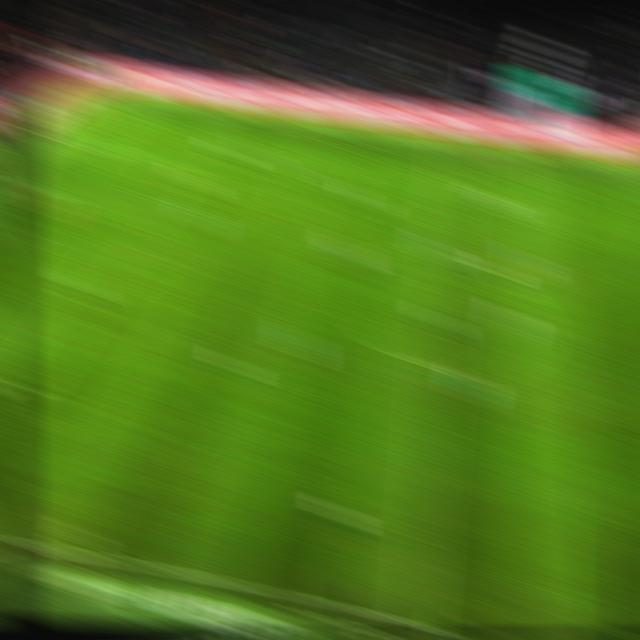bigarea_bottom_inner: (7, 376, 42, 396)
bigarea_top_inner: (160, 152, 194, 171)
bigarea_top_outter: (39, 129, 72, 151)
bottom_arc_area_intersection: (71, 284, 106, 304)
corner: (81, 85, 116, 107)
halfcircle_bottom: (420, 358, 454, 378)
halfcircle_top: (429, 247, 463, 267)
midline_bottom_intersection: (399, 611, 436, 636)
midline_top_intersection: (436, 141, 473, 161)
smallarea_top_inner: (40, 179, 73, 203)
top_arc_area_intersection: (125, 206, 159, 225)
